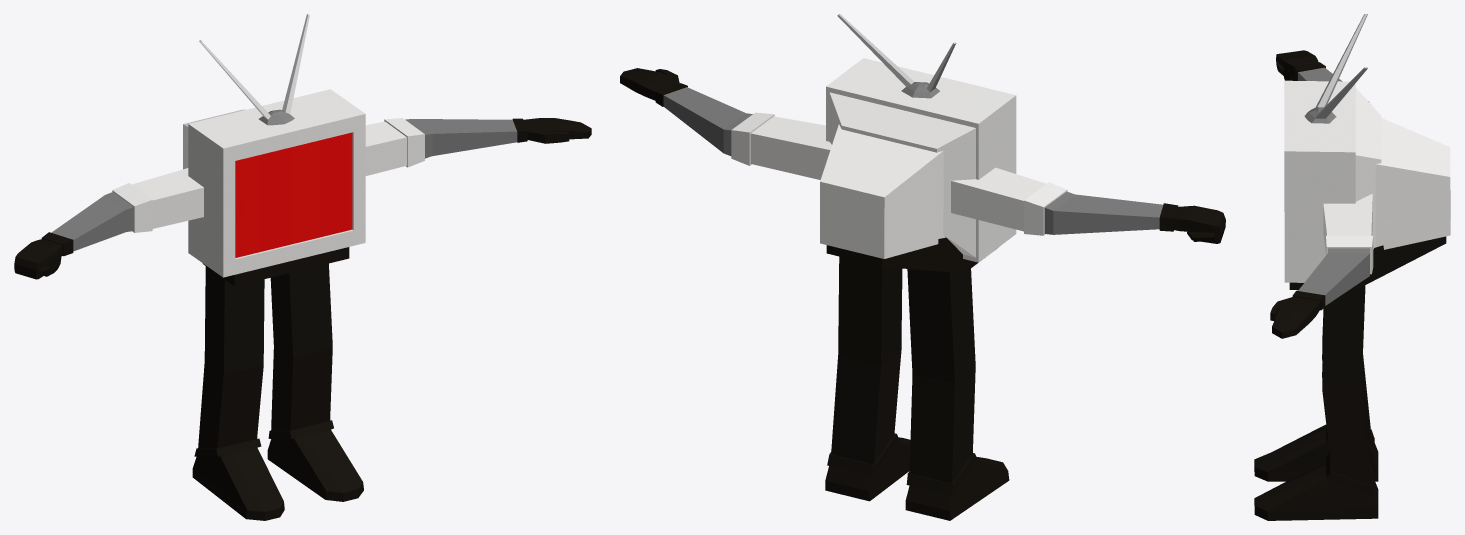
The model's file is OldComputerMan.fbx.
3 views of the same model, side by side, from view 1: azimuth 30°, elevation 25°; view 2: azimuth 150°, elevation 25°; view 3: azimuth 270°, elevation 25° (orthographic). The views are drawn at different scales.
Parts seen in each view (by area): view 1: Cube.007, Cube.003, Cube.005, Cube.009, Cube.004, Cube.010; view 2: Cube.007, Cube.003, Cube.009, Cube.004, Cube.010; view 3: Cube.003, Cube.007, Cube.004, Cube.009, Cube.010.
Boxes of the visible parts, x1=… form: Cube.007: x1=14, y1=118, x2=591, y2=520; Cube.003: x1=183, y1=89, x2=365, y2=286; Cube.005: x1=235, y1=132, x2=352, y2=257; Cube.009: x1=112, y1=118, x2=424, y2=232; Cube.004: x1=51, y1=119, x2=517, y2=251; Cube.010: x1=199, y1=14, x2=309, y2=125; Cube.007: x1=620, y1=68, x2=1225, y2=520; Cube.003: x1=820, y1=58, x2=1016, y2=273; Cube.009: x1=731, y1=112, x2=1067, y2=235; Cube.004: x1=663, y1=87, x2=1163, y2=234; Cube.010: x1=837, y1=14, x2=956, y2=98; Cube.003: x1=1284, y1=80, x2=1450, y2=290; Cube.007: x1=1254, y1=50, x2=1378, y2=520; Cube.004: x1=1298, y1=67, x2=1369, y2=305; Cube.009: x1=1323, y1=104, x2=1373, y2=274; Cube.010: x1=1304, y1=14, x2=1367, y2=123.
Bounding box in the file's own units: 1430 × 1066 × 421.
